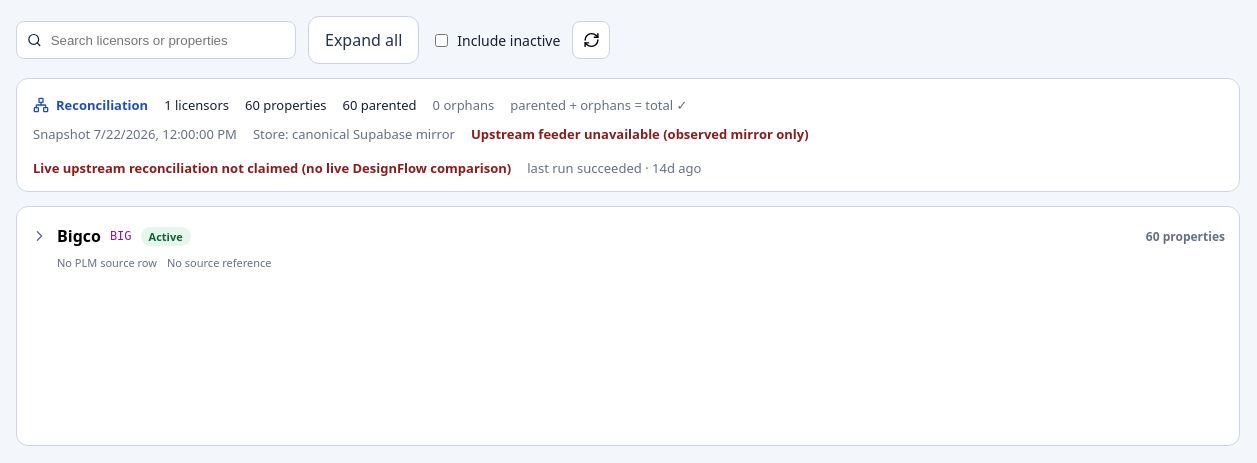
Licensor / Property tree (Step 10) › search reaches a property beyond the initial cap without needing show-all
This screenshot has width=1257, height=463.
expect the text "Bigco" is shown: met, box left=57, top=225, right=101, bottom=247
In the field with placeholder "Search licensors or properties": (167, 40) left=49, top=32, right=285, bottom=48, type "Property 59"
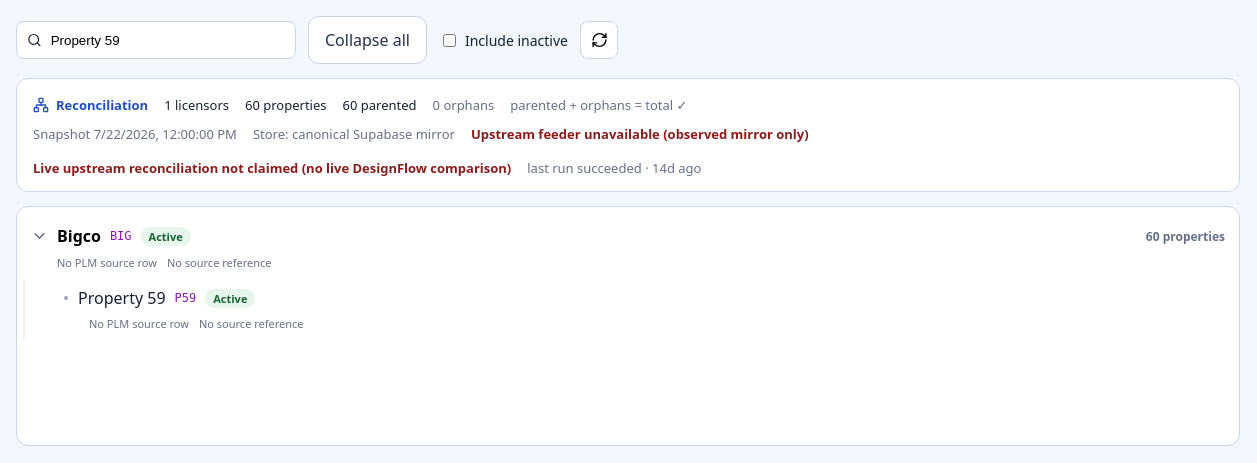
expect the text "Property 59" is shown: met, box left=78, top=287, right=166, bottom=309
